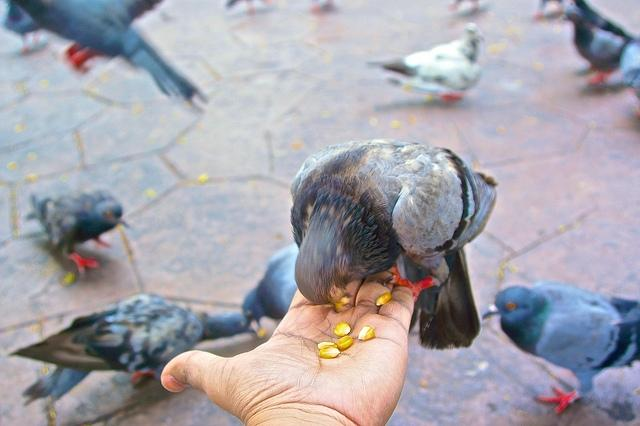corn: (334, 322, 352, 338), (318, 348, 341, 359), (358, 326, 376, 340), (376, 292, 392, 306), (61, 270, 75, 286), (318, 342, 338, 350), (196, 172, 208, 184), (340, 296, 350, 306)
